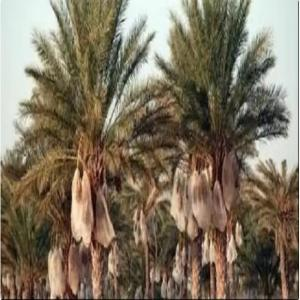palm tree: (4, 0, 158, 298), (149, 0, 291, 298), (240, 156, 298, 298), (120, 169, 171, 298)
